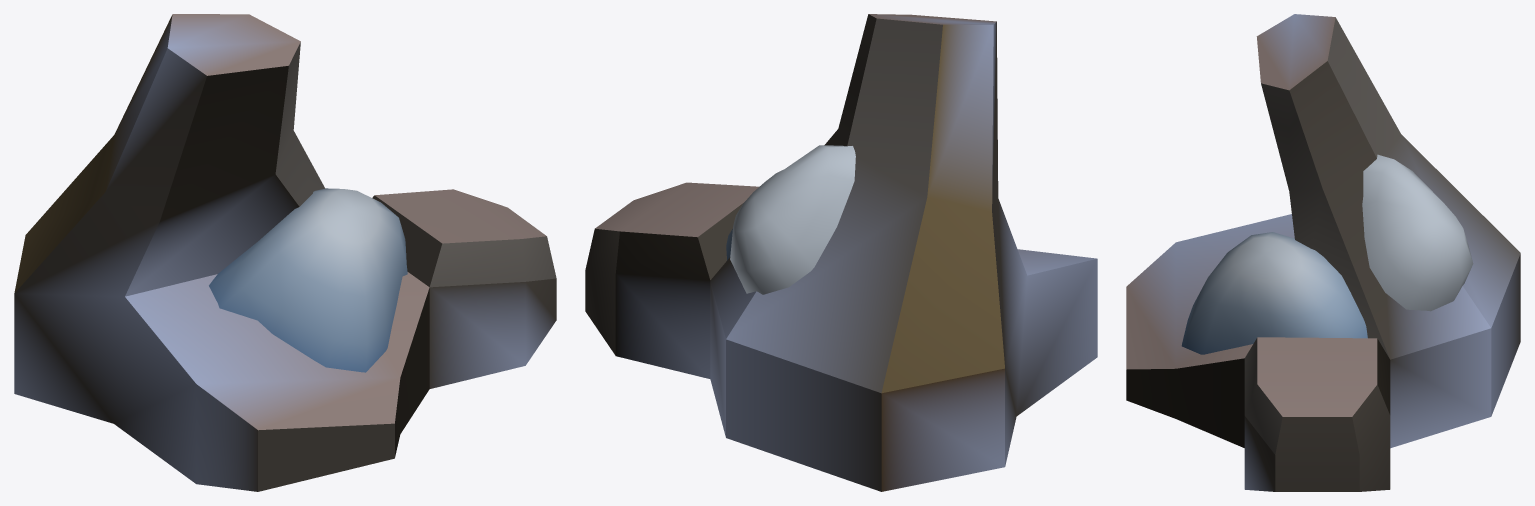
The model's file is Rock_02.fbx.
The picture shows the model from 3 angles, left to right: view 1: azimuth 30°, elevation 25°; view 2: azimuth 150°, elevation 25°; view 3: azimuth 270°, elevation 25°; orthographic projection. The views are drawn at different scales.
Parts seen in each view (by area): view 1: Rock_02; view 2: Rock_02; view 3: Rock_02.
Part boxes in pixels (left/top/right/bottom): Rock_02: left=14, top=14, right=556, bottom=491; Rock_02: left=585, top=14, right=1097, bottom=491; Rock_02: left=1126, top=14, right=1520, bottom=491.
Bounding box in the file's own units: 1584 × 1274 × 1330.
